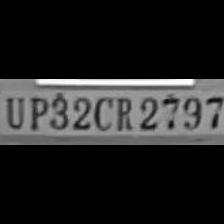2: (135, 92, 159, 132), (70, 93, 90, 131)
3: (48, 92, 68, 130)
7: (159, 93, 179, 131), (202, 91, 222, 129)
9: (178, 93, 202, 131)
C: (91, 93, 111, 131)
P: (25, 93, 48, 131)
R: (110, 92, 134, 132)
U: (2, 93, 26, 129)
